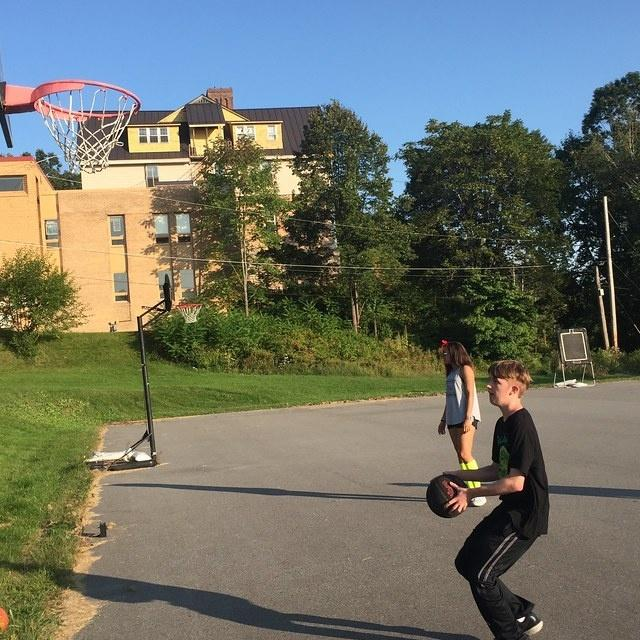basketball: (425, 476, 471, 518), (0, 601, 6, 631)
hoop: (32, 78, 139, 168)
